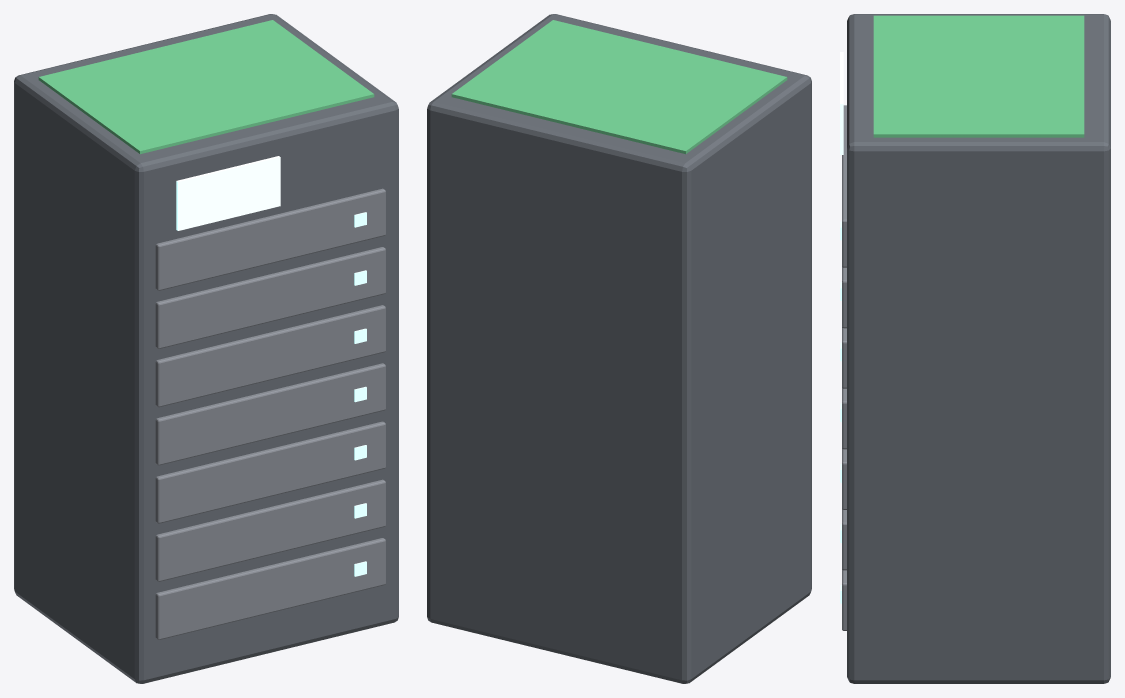
The model's file is ups.fbx.
3 views of the same model, side by side, from view 1: azimuth 30°, elevation 25°; view 2: azimuth 150°, elevation 25°; view 3: azimuth 270°, elevation 25° (orthographic). The views are drawn at different scales.
Visible parts, largest first — view 1: ups; view 2: ups; view 3: ups.
Boxes of the visible parts, x1=… form: ups: x1=14, y1=14, x2=398, y2=683; ups: x1=427, y1=14, x2=811, y2=683; ups: x1=840, y1=14, x2=1110, y2=683.
Bounding box in the file's own units: 0.9 × 1.71 × 0.77.
